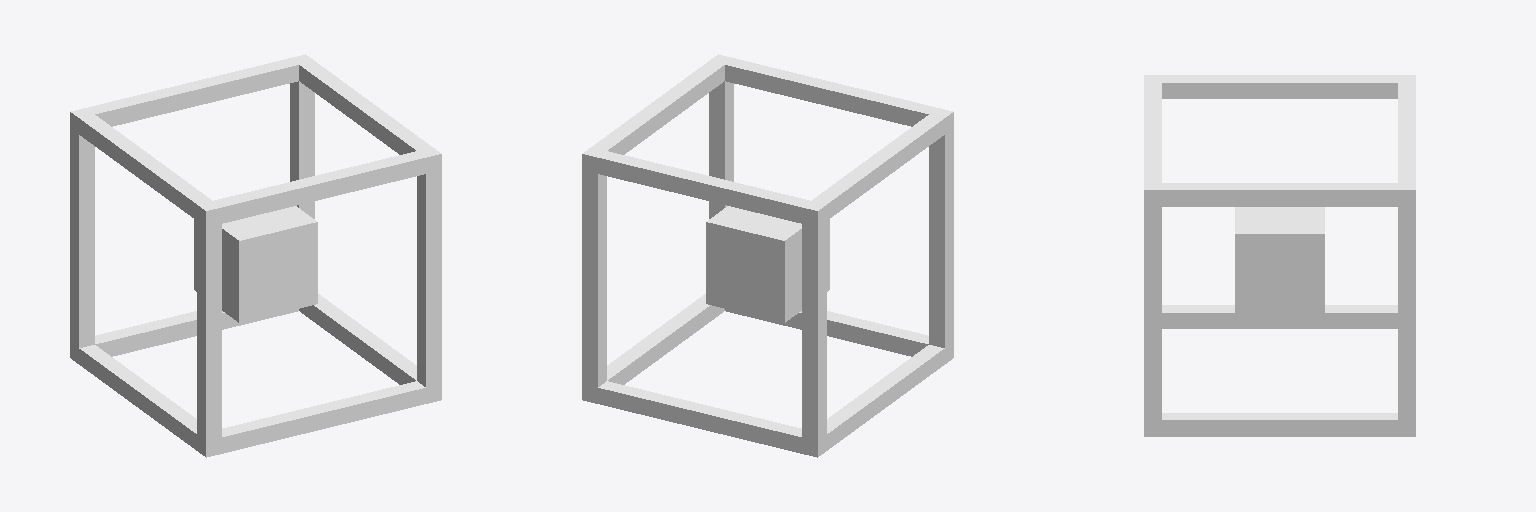
File: winCube_04.obj
3 views of the same model, side by side, from view 1: azimuth 30°, elevation 25°; view 2: azimuth 150°, elevation 25°; view 3: azimuth 270°, elevation 25° (orthographic).
Parts seen in each view (by area): view 1: object 1; view 2: object 1; view 3: object 1.
Boxes of the visible parts, box(x1,y1,x2,y2) form: object 1: box(70, 54, 441, 457); object 1: box(582, 54, 953, 457); object 1: box(1144, 75, 1415, 436).
Size of the model in its own units: 1.5 by 1.5 by 1.5.